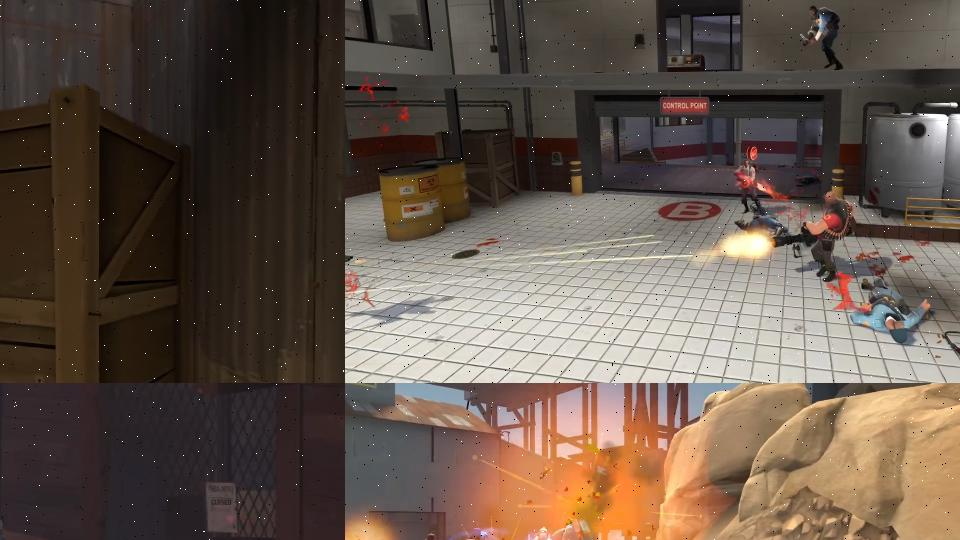Enemy: (770, 191, 861, 284), (848, 274, 933, 348), (794, 3, 857, 72), (731, 157, 769, 214), (562, 519, 589, 540)
